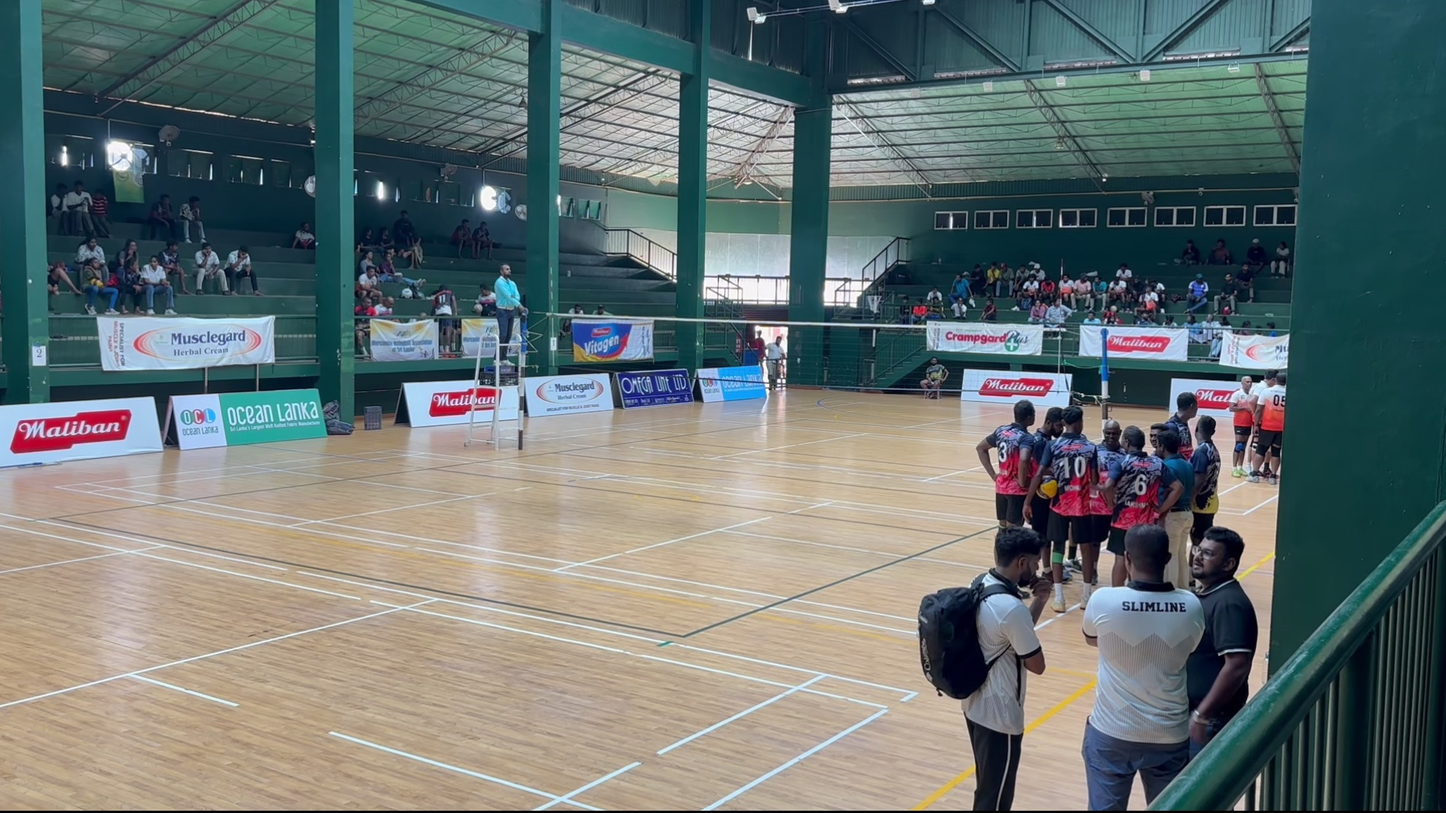Ball: (486, 261, 529, 362)
Payer_B: (1037, 410, 1088, 584), (1070, 413, 1118, 593), (1051, 411, 1093, 583), (1023, 409, 1064, 577), (989, 406, 1030, 539), (1022, 410, 1054, 547), (1007, 408, 1040, 539)
